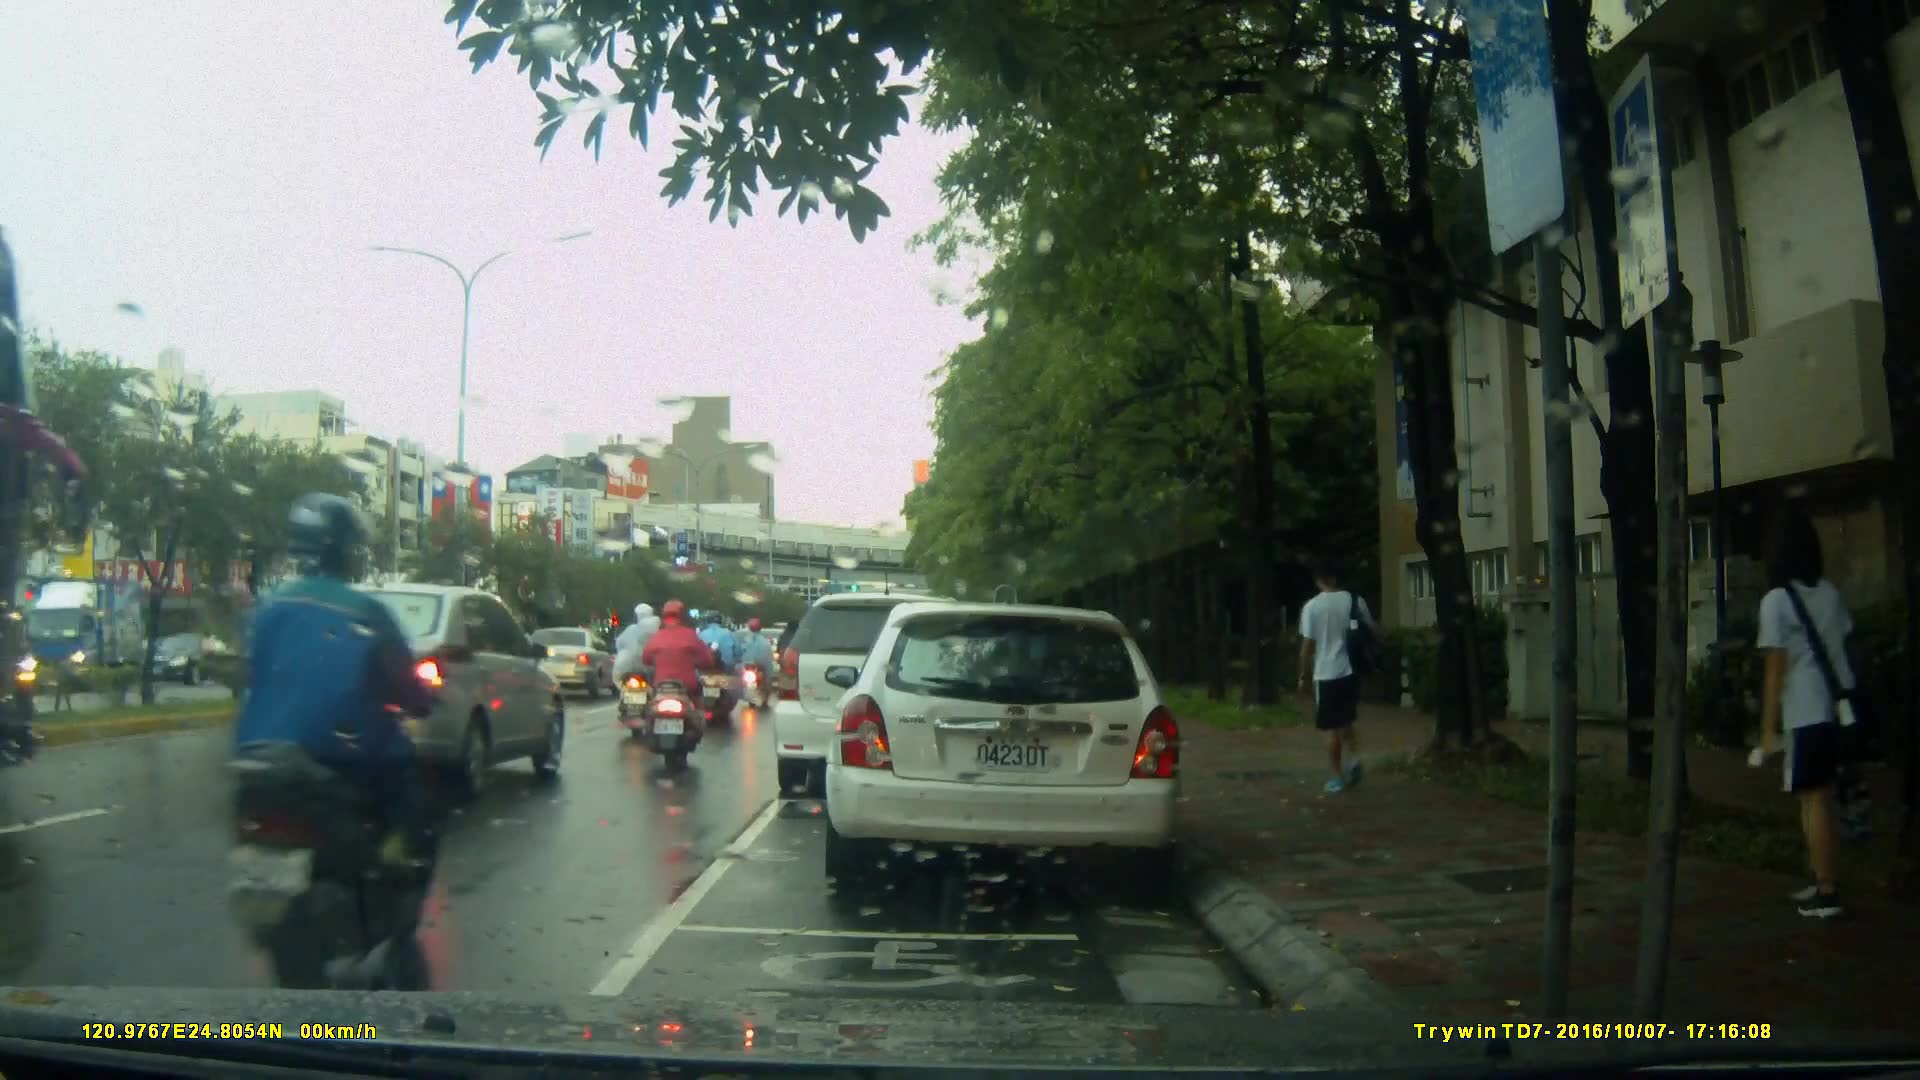pedestrian: (1745, 508, 1864, 931), (1293, 563, 1382, 802)
rider: (210, 492, 458, 1009), (633, 601, 709, 778), (618, 603, 670, 743), (693, 610, 748, 725), (740, 615, 777, 712)
vehicle: (822, 604, 1188, 882), (237, 581, 568, 802), (774, 595, 995, 802), (20, 576, 161, 697), (514, 624, 624, 703), (144, 630, 241, 686)
